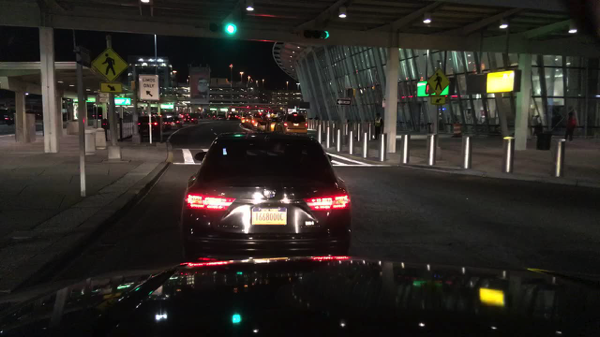car: (179, 132, 352, 265), (274, 111, 309, 136), (138, 115, 161, 138), (266, 116, 281, 132), (1, 108, 15, 125), (167, 116, 182, 131), (160, 115, 170, 131), (29, 110, 43, 121), (88, 109, 102, 120), (251, 112, 264, 123), (257, 120, 268, 132), (100, 118, 110, 130), (240, 115, 250, 124), (217, 114, 227, 121), (63, 112, 69, 122), (190, 116, 198, 123), (229, 114, 236, 121), (183, 115, 189, 123), (235, 114, 242, 120), (184, 112, 190, 116)
person: (563, 112, 575, 142), (374, 112, 384, 142), (531, 115, 542, 138)
traffic sign: (91, 49, 131, 81), (426, 68, 450, 94), (139, 74, 160, 102), (100, 83, 123, 94), (429, 96, 447, 105), (336, 98, 350, 105)
